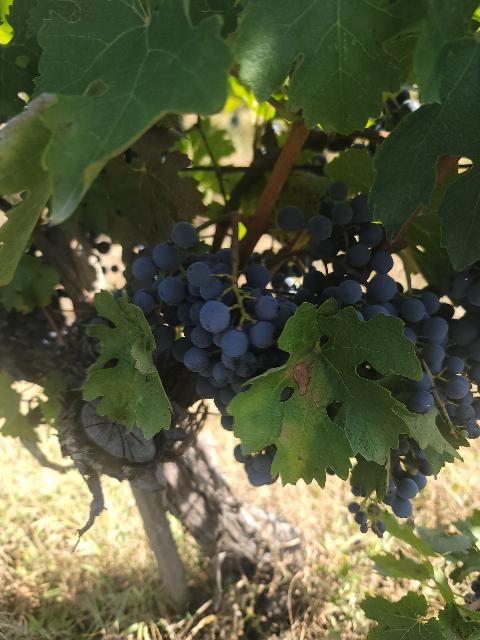grapes: (131, 221, 296, 429)
